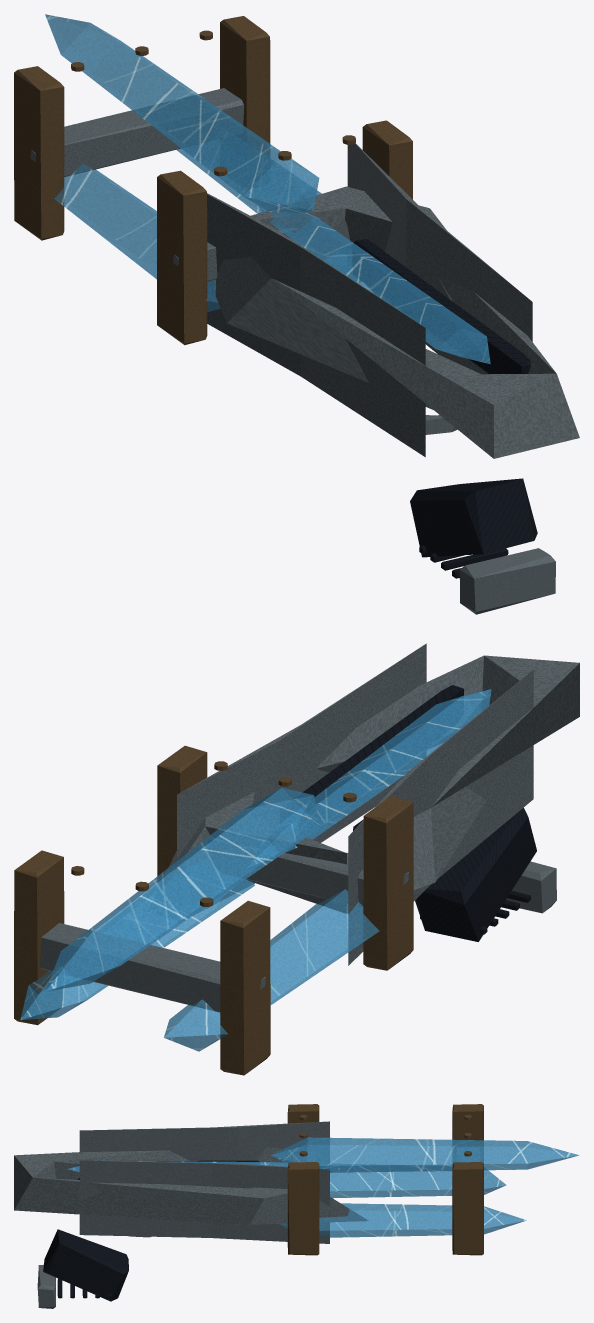
File: rime-focus-damaged-lod1.glb
3 renders of one model, top to bottom at view 1: azimuth 30°, elevation 25°; view 2: azimuth 150°, elevation 25°; view 3: azimuth 270°, elevation 25°, orthographic. The views are drawn at different scales.
Parts seen in each view (by area): view 1: Sculpted open silver receiver, Swept receiver fin, Independent ice cartridge, Swept receiver fin.001, Cartridge clamp bridge.001, Rear dorsal ice conduit, Locking cartridge side bracket, Locking cartridge side bracket.002, Angled slate pistol grip, Slate receiver spine.001, Independent ice cartridge.001, Locking cartridge side bracket.003 (+3 smaller); view 2: Sculpted open silver receiver, Independent ice cartridge, Swept receiver fin.001, Swept receiver fin, Cartridge clamp bridge.001, Independent ice cartridge.001, Locking cartridge side bracket.002, Locking cartridge side bracket, Angled slate pistol grip, Rear dorsal ice conduit, Slate receiver spine.001, Locking cartridge side bracket.003 (+4 smaller); view 3: Sculpted open silver receiver, Swept receiver fin.001, Independent ice cartridge, Swept receiver fin, Independent ice cartridge.002, Angled slate pistol grip, Independent ice cartridge.001, Locking cartridge side bracket.001, Locking cartridge side bracket.003, Locking cartridge side bracket.002, Silver flared grip heel, Locking cartridge side bracket (+2 smaller).
Part boxes in pixels (x1,y1,x2,y2): Sculpted open silver receiver: (213, 186, 579, 458); Swept receiver fin: (207, 193, 425, 457); Independent ice cartridge: (45, 14, 319, 215); Swept receiver fin.001: (347, 143, 532, 374); Cartridge clamp bridge.001: (30, 88, 244, 176); Rear dorsal ice conduit: (245, 185, 490, 364); Locking cartridge side bracket: (157, 170, 207, 345); Locking cartridge side bracket.002: (14, 66, 64, 240); Angled slate pistol grip: (410, 478, 537, 557); Slate receiver spine.001: (353, 239, 530, 374); Independent ice cartridge.001: (54, 163, 220, 311); Locking cartridge side bracket.003: (220, 16, 270, 156); Sculpted open silver receiver: (161, 655, 579, 913); Independent ice cartridge: (45, 787, 319, 991); Swept receiver fin.001: (177, 643, 426, 912); Swept receiver fin: (348, 670, 533, 965); Cartridge clamp bridge.001: (40, 923, 265, 1012); Independent ice cartridge.001: (164, 889, 379, 1051); Locking cartridge side bracket.002: (220, 900, 270, 1075); Locking cartridge side bracket: (363, 796, 413, 970); Angled slate pistol grip: (415, 807, 536, 941); Rear dorsal ice conduit: (246, 689, 491, 868); Slate receiver spine.001: (280, 685, 463, 824); Locking cartridge side bracket.003: (14, 850, 64, 1025); Sculpted open silver receiver: (14, 1147, 368, 1224); Swept receiver fin.001: (79, 1160, 329, 1243); Independent ice cartridge: (271, 1137, 579, 1172); Swept receiver fin: (79, 1121, 329, 1162); Independent ice cartridge.002: (279, 1203, 526, 1237); Angled slate pistol grip: (43, 1229, 128, 1301); Independent ice cartridge.001: (330, 1170, 506, 1198); Locking cartridge side bracket.001: (287, 1162, 319, 1255); Locking cartridge side bracket.003: (452, 1162, 483, 1255); Locking cartridge side bracket.002: (452, 1104, 483, 1162); Silver flared grip heel: (37, 1264, 55, 1308); Locking cartridge side bracket: (287, 1104, 319, 1123).
Size of the model in its own units: 0.234 by 0.275 by 0.86.
4 materials, 4 textured.
